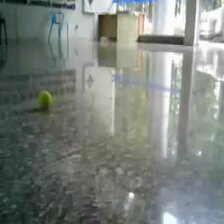tennis: (38, 90, 52, 109)
